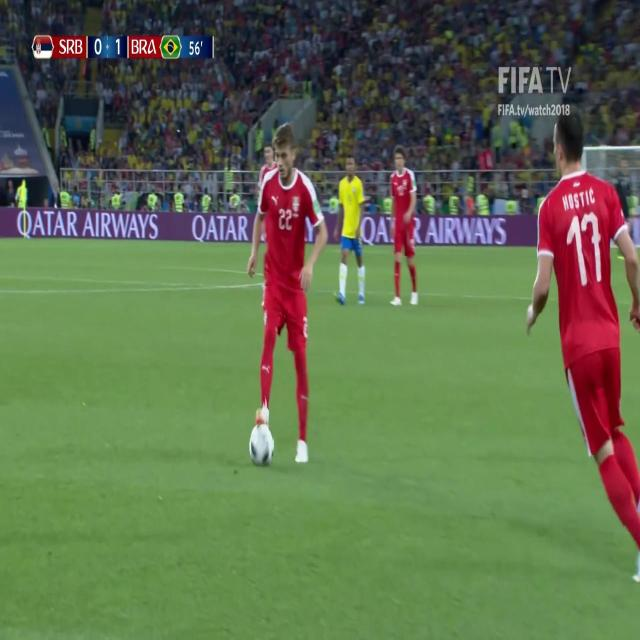ball: (247, 421, 274, 473)
player: (519, 108, 640, 590), (239, 118, 326, 474), (384, 142, 425, 314), (335, 149, 367, 315)
